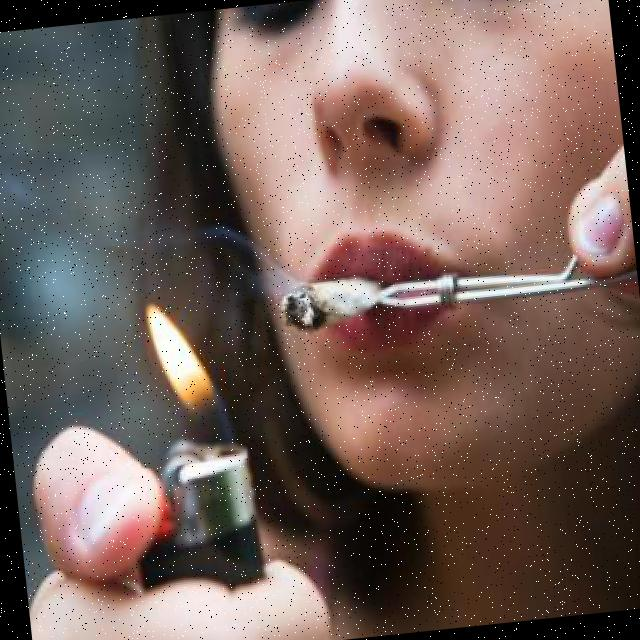fire: (122, 281, 247, 468)
